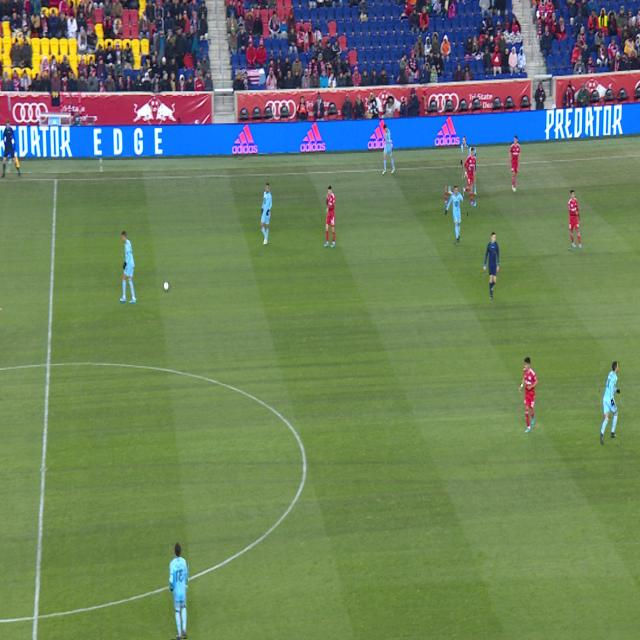football: (164, 282, 169, 291)
player: (170, 543, 188, 640), (600, 361, 620, 445), (519, 357, 538, 433), (446, 187, 467, 243), (120, 231, 136, 303), (568, 191, 582, 248), (507, 136, 521, 192), (463, 148, 476, 206), (260, 183, 272, 244), (324, 186, 336, 247), (382, 124, 395, 174), (460, 136, 471, 165), (460, 165, 466, 196), (472, 172, 475, 179)
referee: (483, 232, 500, 299)
